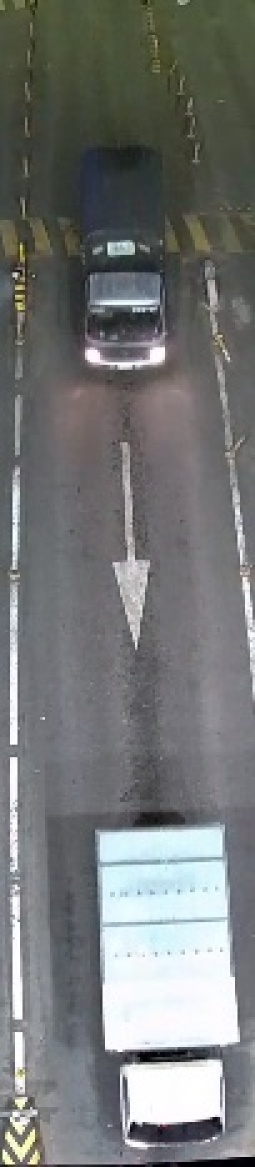truck: (75, 808, 254, 1150), (67, 139, 181, 383)
